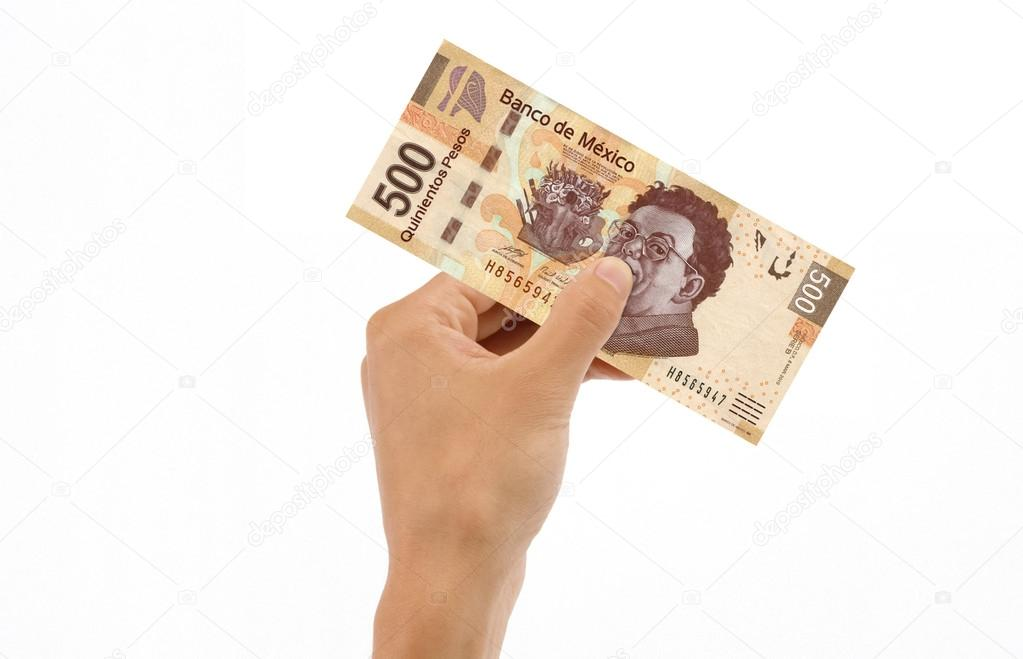billete: (345, 38, 857, 447)
